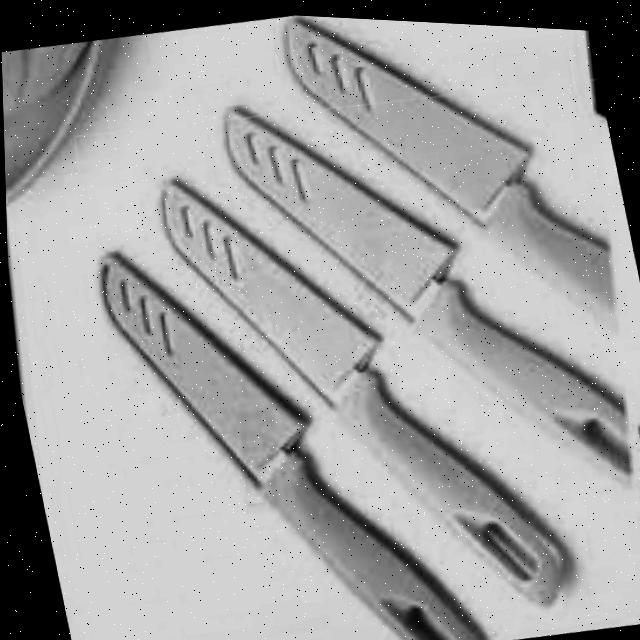knife: (142, 120, 577, 640), (207, 41, 640, 544), (84, 199, 488, 640), (273, 11, 626, 367)
